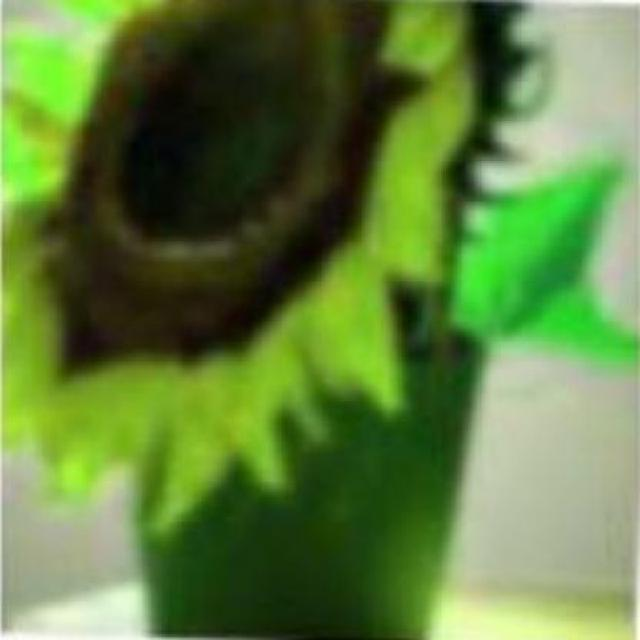sunflower: (0, 3, 483, 540)
